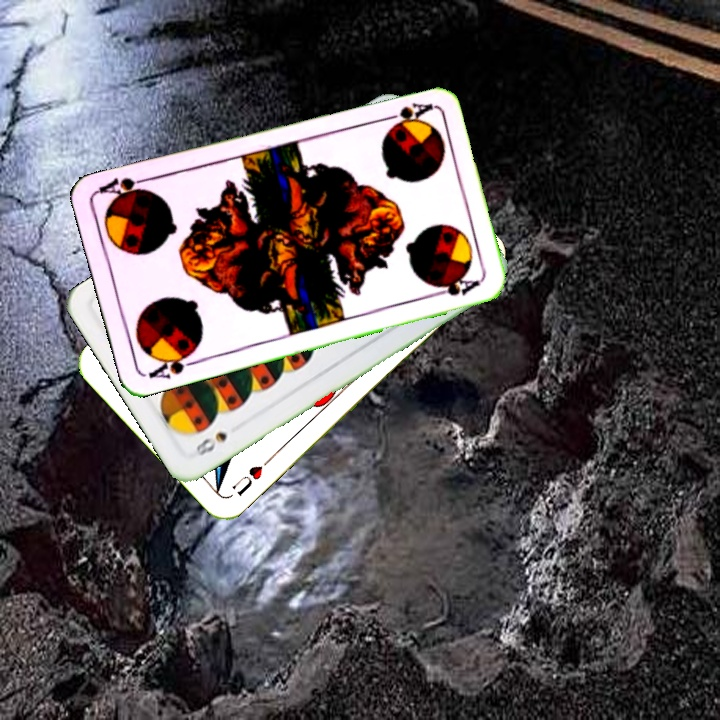HU: (228, 454, 274, 498)
S8: (191, 427, 230, 459)
SA: (144, 345, 202, 381), (375, 98, 434, 127)
